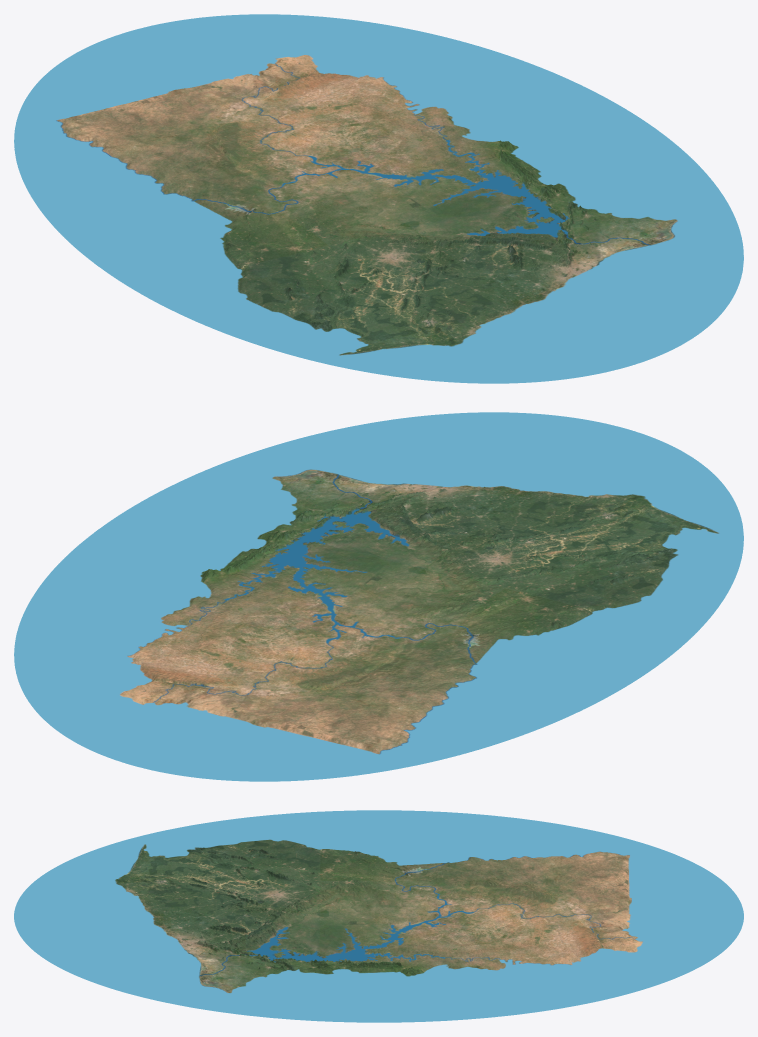
File: GHA-previa-terrain.glb
The picture shows the model from 3 angles, top to bottom: view 1: azimuth 30°, elevation 25°; view 2: azimuth 150°, elevation 25°; view 3: azimuth 270°, elevation 25°; orthographic projection. The views are drawn at different scales.
Visible parts, largest first — view 1: Gana; view 2: Gana; view 3: Gana.
Boxes of the visible parts, x1,y1,x2,y2 form: Gana: (14, 14, 743, 383); Gana: (14, 412, 743, 781); Gana: (14, 810, 743, 1022).
Bounding box in the file's own units: 1.67 × 0.0204 × 2.43.
Materials: 1 (1 with a texture image).
